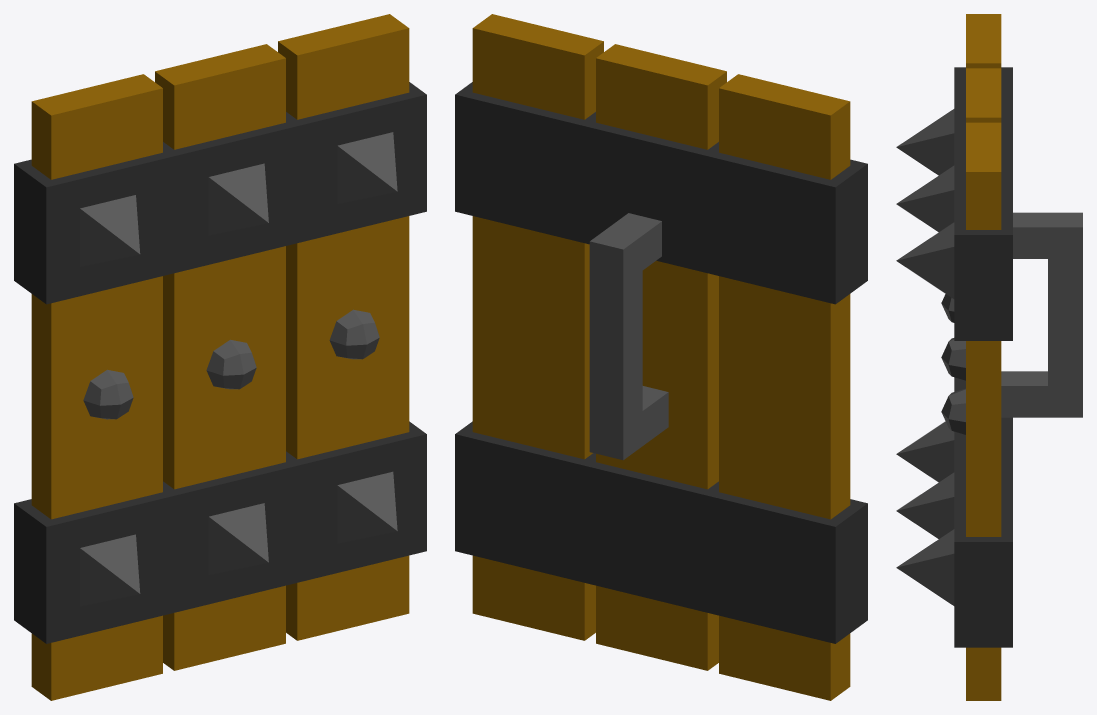
Rendered from Shield_03.fbx.
3 views of the same model, side by side, from view 1: azimuth 30°, elevation 25°; view 2: azimuth 150°, elevation 25°; view 3: azimuth 270°, elevation 25° (orthographic). The views are drawn at different scales.
Parts seen in each view (by area): view 1: Shield_03; view 2: Shield_03; view 3: Shield_03.
Boxes of the visible parts, x1,y1,x2,y2 form: Shield_03: (14,14,426,700); Shield_03: (455,14,867,700); Shield_03: (896,14,1082,700).
Size of the model in its own units: 68 by 100 by 32.
1 material, 1 textured.
